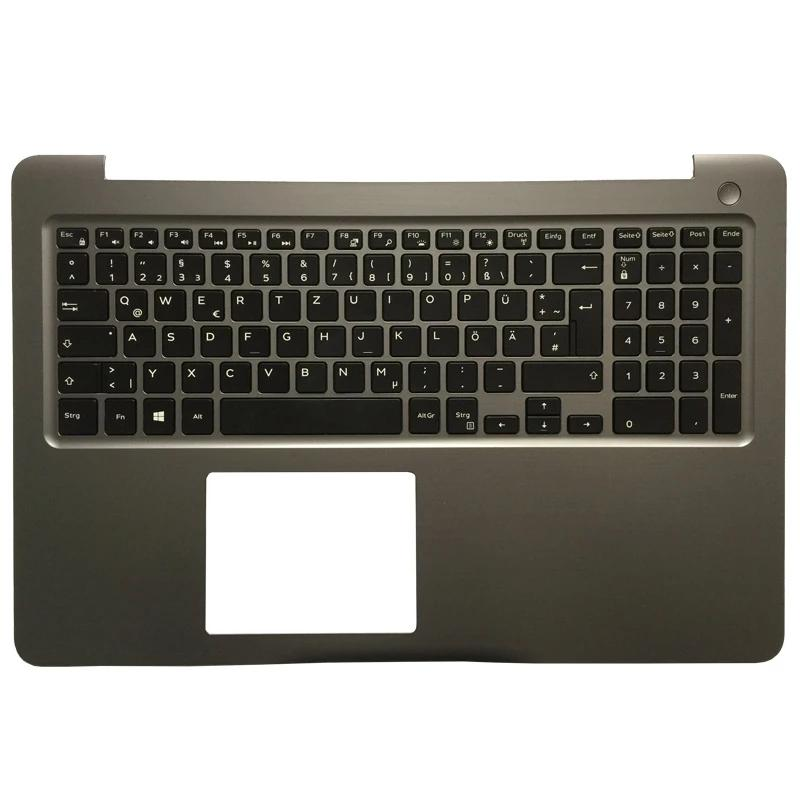0: (436, 251, 469, 284)
1: (93, 250, 127, 283)
2: (132, 251, 166, 284)
3: (170, 251, 204, 284)
4: (210, 251, 243, 284)
5: (248, 251, 281, 284)
6: (286, 251, 319, 284)
7: (324, 252, 356, 285)
8: (361, 252, 394, 285)
9: (398, 251, 432, 284)
a: (121, 323, 154, 356)
accent: (512, 251, 545, 283)
ae: (501, 323, 533, 355)
alt-left: (180, 396, 213, 434)
altgr-right: (407, 395, 440, 433)
b: (293, 359, 326, 392)
c: (217, 359, 250, 392)
caret: (54, 250, 88, 283)
comma: (407, 358, 439, 391)
d: (198, 323, 231, 356)
del: (550, 250, 602, 283)
e: (190, 287, 223, 320)
enter: (568, 286, 602, 356)
f: (237, 323, 269, 355)
g: (274, 323, 307, 356)
h: (312, 323, 344, 355)
hash: (539, 323, 569, 355)
i: (380, 288, 413, 320)
j: (350, 323, 382, 355)
k: (387, 323, 420, 356)
keyboard: (42, 214, 758, 450)
l: (425, 323, 457, 355)
less: (102, 359, 136, 392)
m: (368, 359, 402, 392)
minus: (482, 359, 515, 391)
n: (331, 359, 364, 392)
o: (417, 287, 450, 320)
oe: (463, 323, 495, 355)
p: (455, 287, 488, 320)
plus: (531, 287, 564, 320)
point: (444, 359, 478, 391)
q: (113, 287, 147, 320)
r: (228, 287, 262, 320)
s: (160, 323, 192, 356)
shift-left: (55, 359, 98, 393)
shift-lock: (55, 322, 116, 356)
shift-right: (520, 358, 602, 391)
space: (219, 395, 401, 434)
ss: (474, 251, 507, 284)
strg-left: (55, 395, 97, 435)
strg-right: (444, 395, 478, 433)
t: (267, 287, 299, 320)
tab: (55, 286, 107, 320)
u: (342, 288, 375, 320)
ue: (493, 287, 526, 320)
v: (256, 359, 288, 392)
w: (152, 287, 185, 320)
x: (179, 359, 212, 392)
y: (141, 359, 174, 393)
z: (305, 287, 337, 320)
